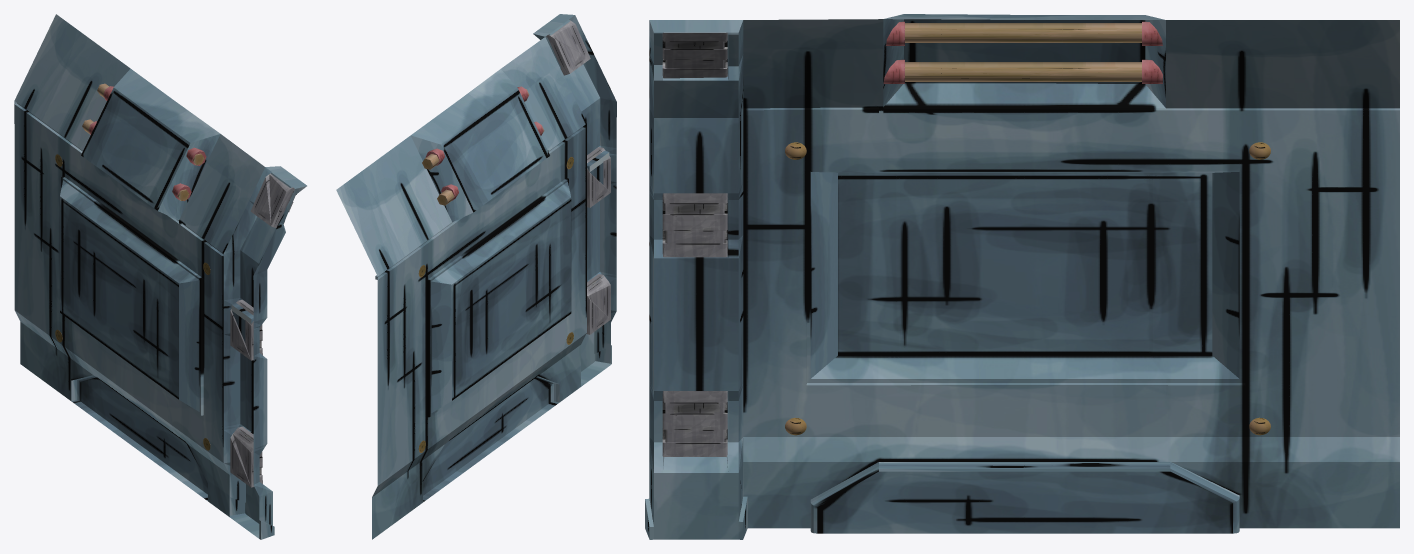
The model's file is OneStoryWall.FBX.
3 renders of one model, left to right at view 1: azimuth 30°, elevation 25°; view 2: azimuth 150°, elevation 25°; view 3: azimuth 270°, elevation 25°, orthographic. The views are drawn at different scales.
Parts seen in each view (by area): view 1: Plane005, Box003, Box007, Box006; view 2: Plane005, Box003, Box007, Box006; view 3: Plane005, Cylinder001, Cylinder007, Box007, Box006, Box003.
Boxes of the visible parts, x1,y1,x2,y2 form: Plane005: (14, 14, 306, 539); Box003: (250, 173, 296, 227); Box007: (230, 426, 262, 487); Box006: (230, 299, 262, 360); Plane005: (336, 14, 616, 539); Box003: (546, 20, 590, 75); Box007: (586, 274, 610, 334); Box006: (587, 147, 610, 207); Plane005: (645, 14, 1399, 539); Cylinder001: (905, 23, 1141, 42); Cylinder007: (905, 62, 1141, 81); Box007: (662, 391, 727, 456); Box006: (662, 193, 727, 257); Box003: (662, 32, 727, 78).
Bounding box in the file's own units: 21.56 × 128 × 100.
Materials: 5 (5 with a texture image).
